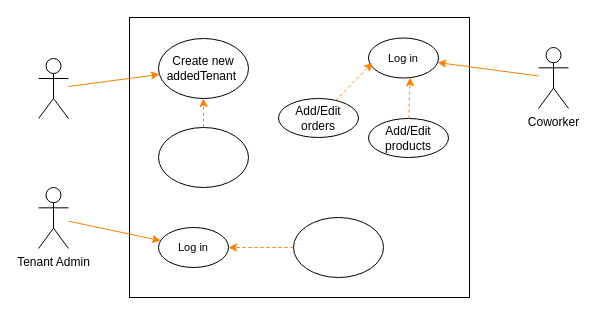
Image size: 596x315. Some labels were removed from this diagram. The shapes that lost their labels are listed below. From the top down, each one's centre as x and y in pixels, then its label:
At (x=53, y=88): "Super Admin".
At (x=203, y=157): "Create Admin Tenamt account".
At (x=338, y=247): "Create Coworkers accounts".
